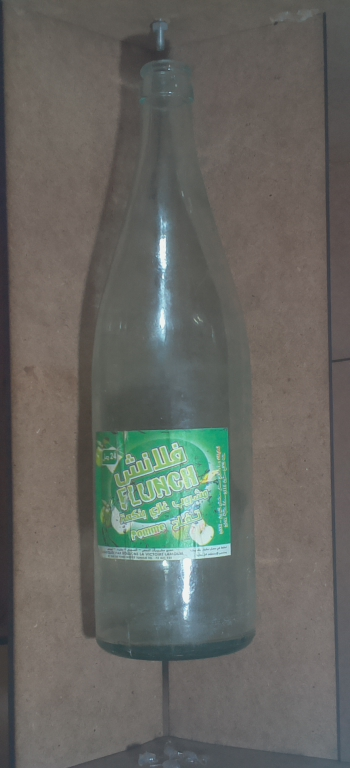Glass: (80, 51, 264, 670)
